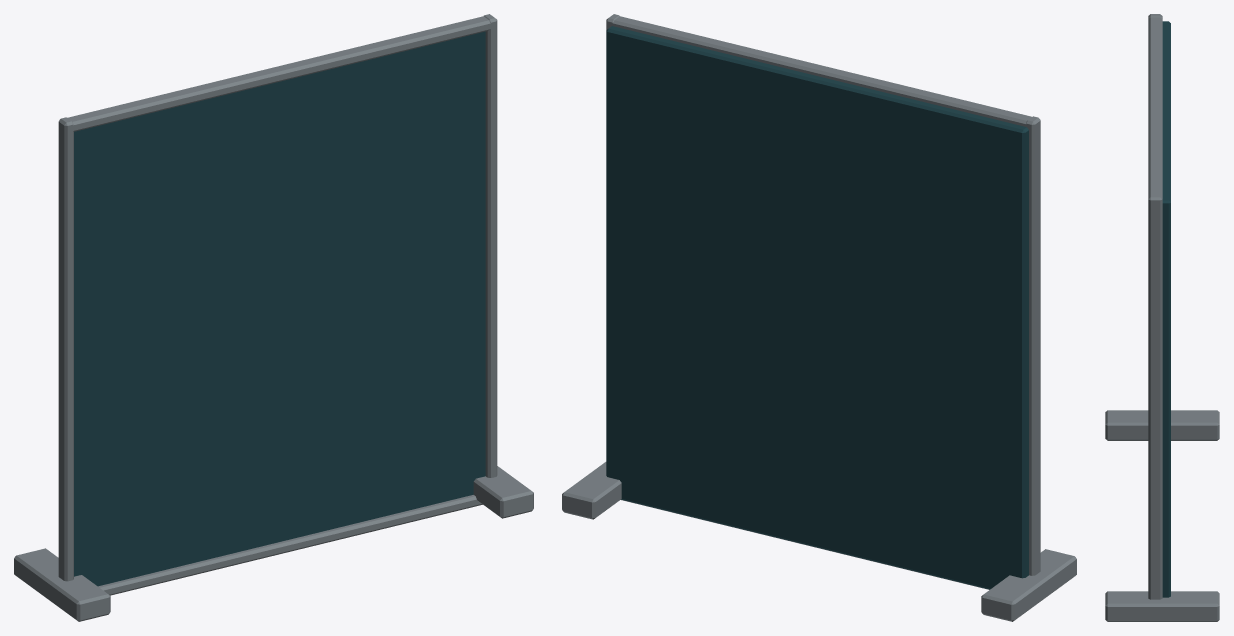
File: TallPartition.fbx
The picture shows the model from 3 angles, left to right: view 1: azimuth 30°, elevation 25°; view 2: azimuth 150°, elevation 25°; view 3: azimuth 270°, elevation 25°; orthographic projection. The views are drawn at different scales.
Visible parts, largest first — view 1: TallPartition; view 2: TallPartition; view 3: TallPartition.
Boxes of the visible parts, x1,y1,x2,y2 form: TallPartition: [14, 14, 533, 621]; TallPartition: [562, 14, 1076, 621]; TallPartition: [1105, 14, 1219, 621].
Size of the model in its own units: 162 by 164 by 40.
1 material, 1 textured.
